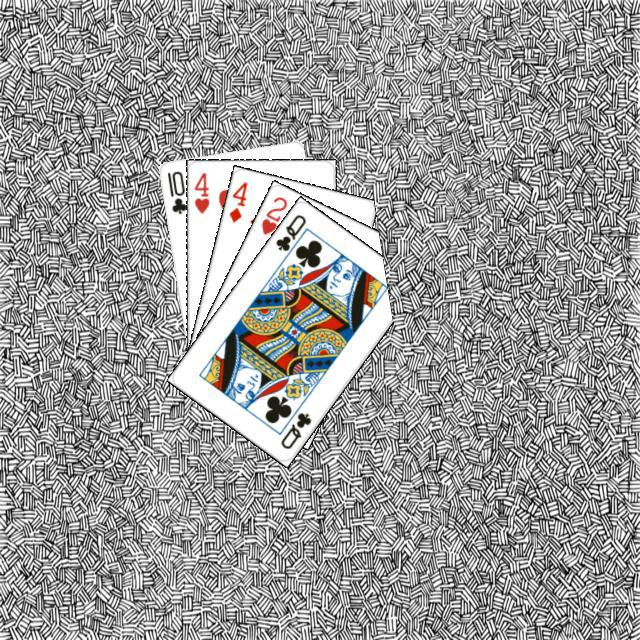10c: (162, 166, 188, 215)
2h: (256, 192, 289, 236)
4d: (224, 177, 249, 224)
4h: (189, 168, 211, 215)
Qc: (270, 209, 311, 261), (276, 407, 313, 451)
